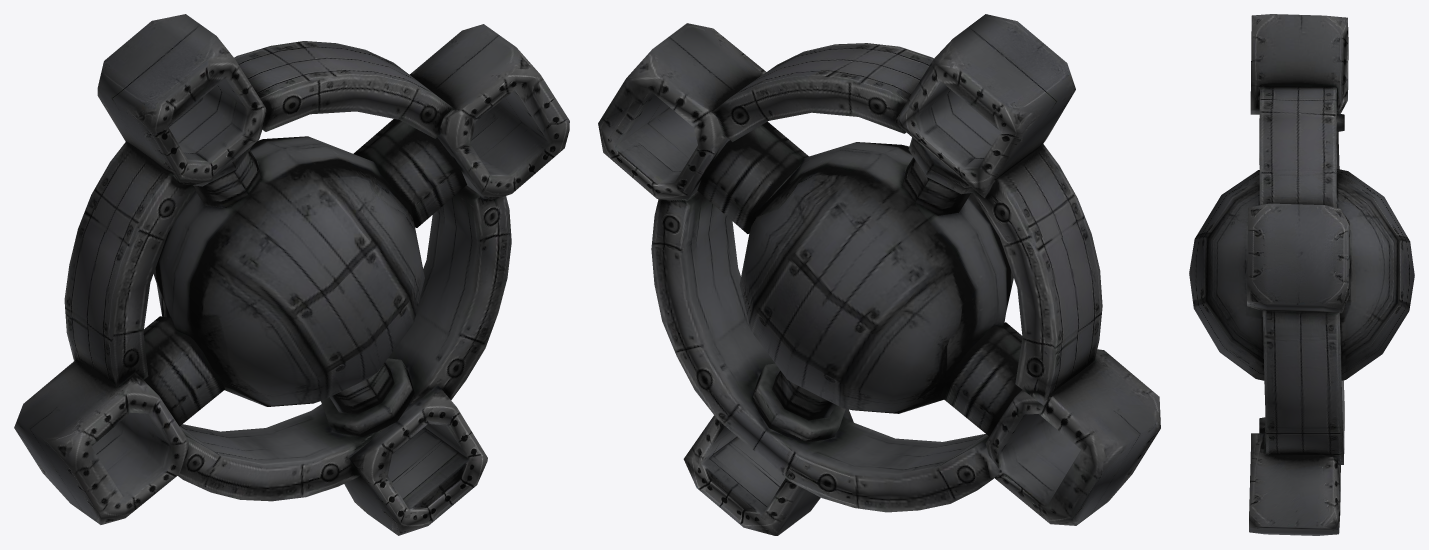
The model's file is cold-iron-v2-joint-b-gimbal.glb.
3 views of the same model, side by side, from view 1: azimuth 30°, elevation 25°; view 2: azimuth 150°, elevation 25°; view 3: azimuth 270°, elevation 25° (orthographic). The views are drawn at different scales.
Parts seen in each view (by area): view 1: tripo_node_1c1e53ed-55d7-4b0d-8486-86f54354ab4b; view 2: tripo_node_1c1e53ed-55d7-4b0d-8486-86f54354ab4b; view 3: tripo_node_1c1e53ed-55d7-4b0d-8486-86f54354ab4b.
Part boxes in pixels (box(x1,y1,x2,y2)): tripo_node_1c1e53ed-55d7-4b0d-8486-86f54354ab4b: box(14, 14, 569, 535); tripo_node_1c1e53ed-55d7-4b0d-8486-86f54354ab4b: box(598, 14, 1160, 535); tripo_node_1c1e53ed-55d7-4b0d-8486-86f54354ab4b: box(1189, 14, 1414, 535).
Bounding box in the file's own units: 0.9643 × 0.9573 × 0.4355.
Materials: 1 (1 with a texture image).
